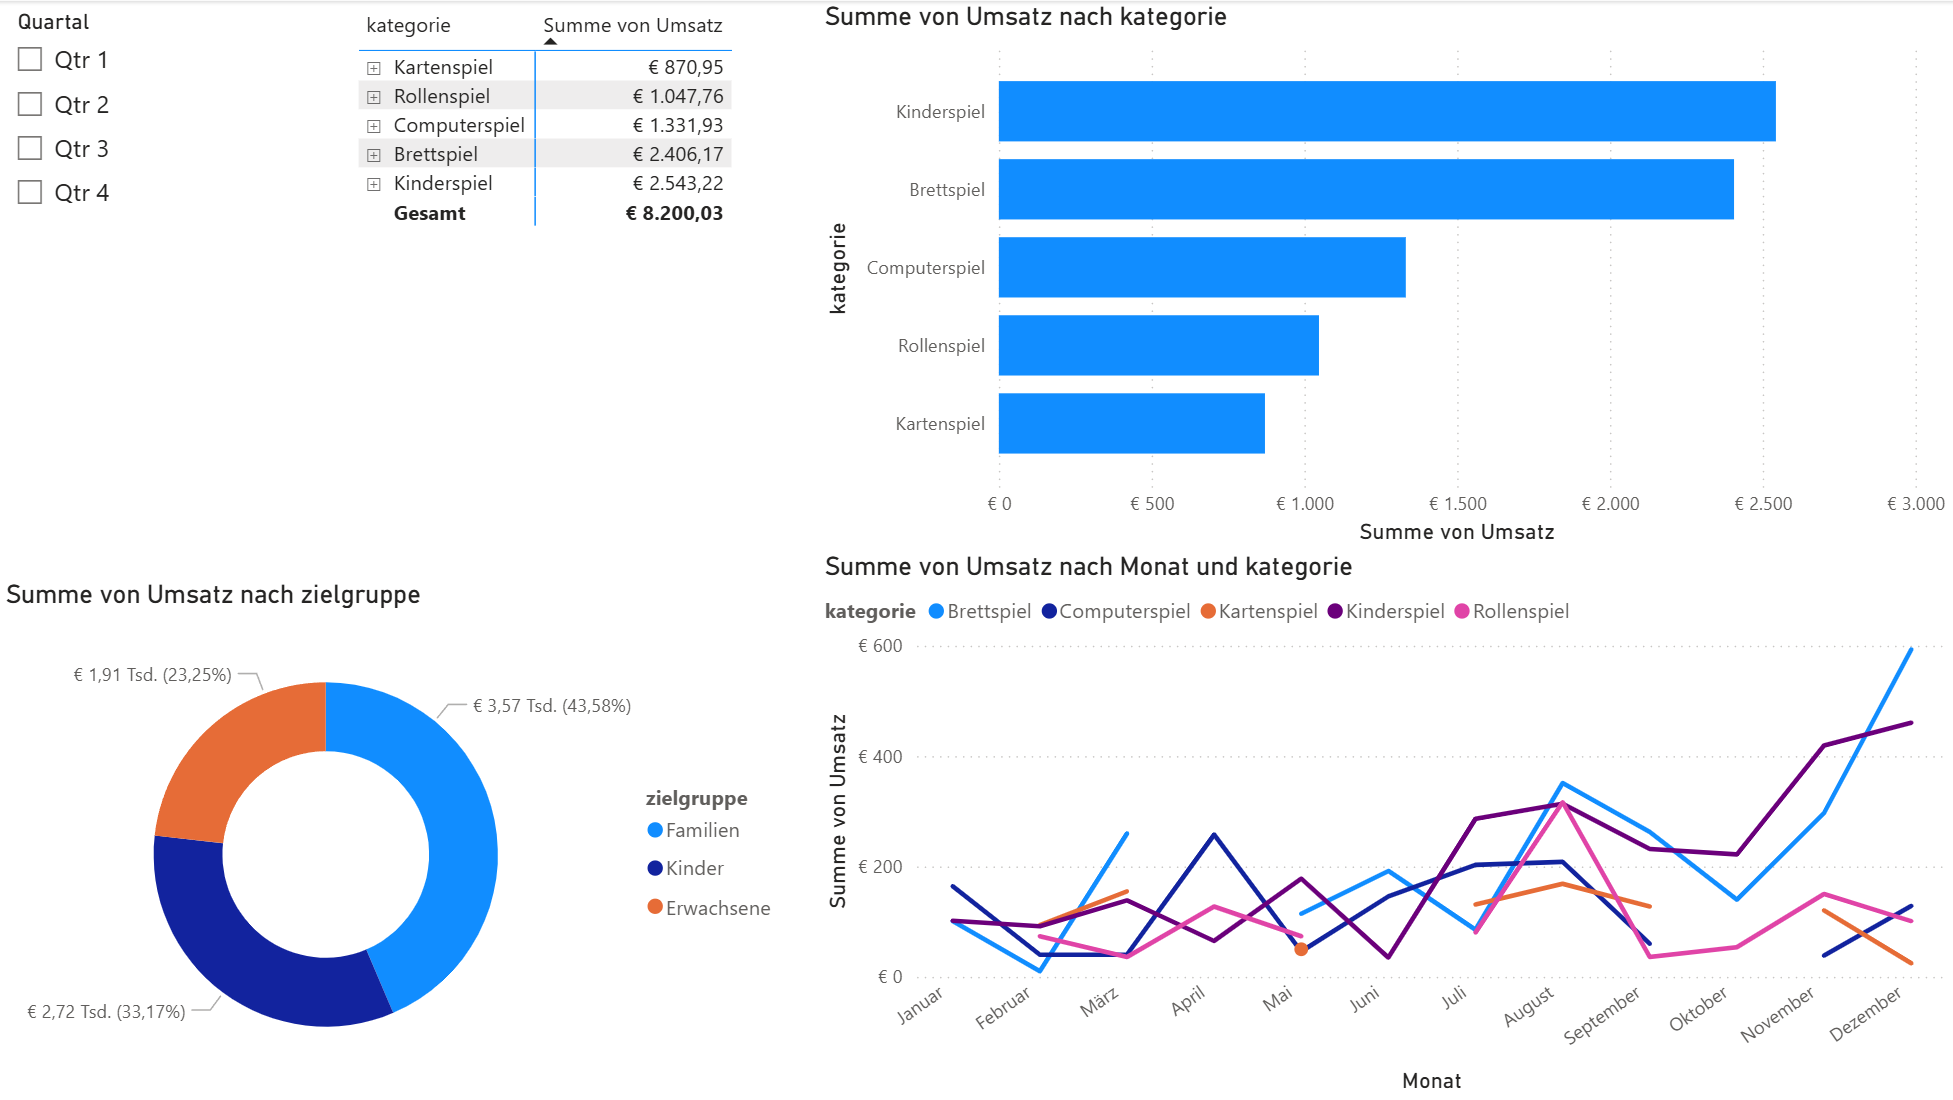

The page's visual inventory and layout, read from the dashboard file:
{"tool":"powerbi","page":{"name":"Seite 1","canvas":[1280,720],"ordinal":0},"visuals":[{"type":"slicer","fields":{"Values":["Verkäufe.datum.Variation.Datumshierarchie.Quartal"]},"box":[0,0,230.8,151.5],"z":3000},{"type":"pivotTable","fields":{"Rows":["Spiel.kategorie","Spiel.unterkategorie","Spiel.titel"],"Values":["Sum(Verkäufe.Umsatz)"]},"box":[230.8,0,289.2,360],"z":4000},{"type":"clusteredBarChart","fields":{"Y":["Sum(Verkäufe.Umsatz)"],"Category":["Spiel.kategorie","Spiel.unterkategorie","Spiel.titel"]},"box":[536.2,0,743.8,360],"z":5000},{"type":"donutChart","fields":{"Category":["Spiel.zielgruppe"],"Y":["Sum(Verkäufe.Umsatz)"]},"box":[0,378.5,520,341.5],"z":5001},{"type":"lineChart","fields":{"Category":["Verkäufe.datum.Variation.Datumshierarchie.Monat"],"Y":["Sum(Verkäufe.Umsatz)"],"Series":["Spiel.kategorie"]},"box":[536.2,360,743.8,360],"z":5002}]}

Visuals, with their boxes in screenshot pixels (x1, y1, x2, y2), scaled from the page's 1280x720 canvas onto the 1953x1100 screenshot:
slicer - Verkäufe.datum.Variation.Datumshierarchie.Quartal: l=0, t=0, r=352, b=231
pivotTable - Spiel.kategorie x Spiel.unterkategorie: l=352, t=0, r=793, b=550
clusteredBarChart - Sum(Verkäufe.Umsatz) x Spiel.kategorie: l=818, t=0, r=1952, b=550
donutChart - Spiel.zielgruppe x Sum(Verkäufe.Umsatz): l=0, t=578, r=793, b=1099
lineChart - Verkäufe.datum.Variation.Datumshierarchie.Monat x Sum(Verkäufe.Umsatz): l=818, t=550, r=1952, b=1099
